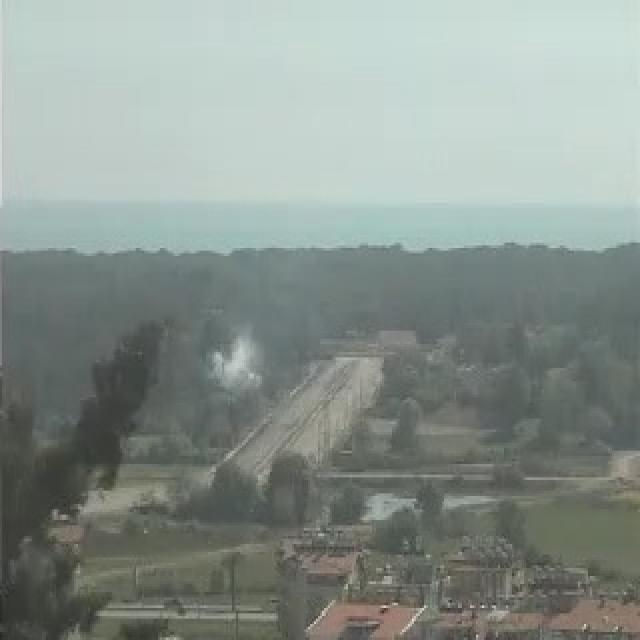smoke: (207, 326, 262, 391)
